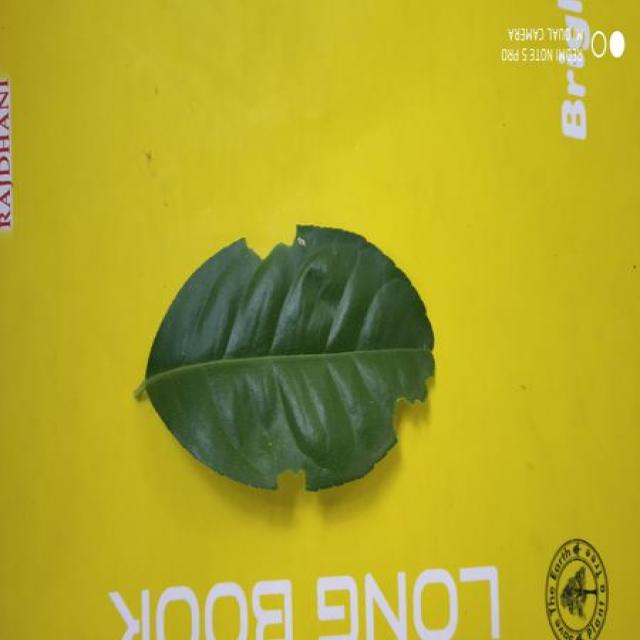citrus anthracnose: (138, 225, 433, 489)
